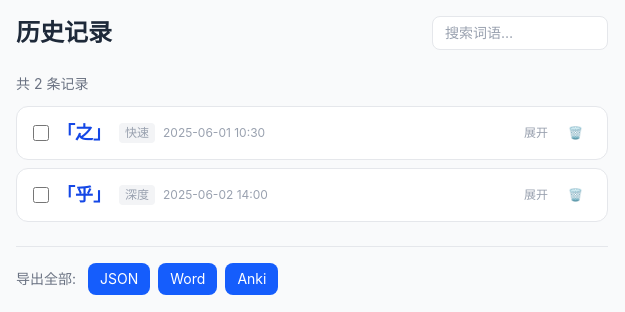
Scenario: HistoryView › deletes a single record with confirmation
Click the button titled "删除" in the row of "2025-06-01 10:30" at x=576, y=133, box [560,121,591,145]
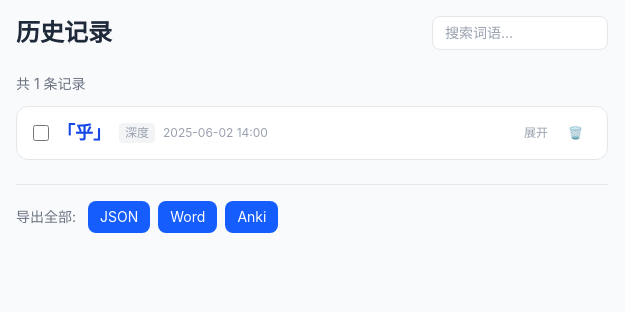
Expected: the text "之" is gone
